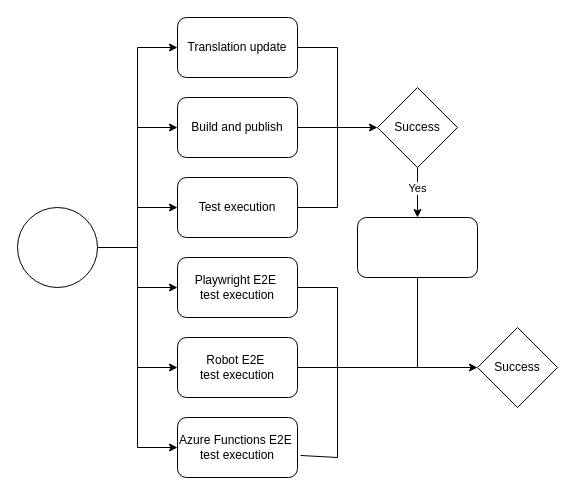
Image size: 575x495. Some labels were removed from this diagram. The shapes that lost their labels are listed below. From the top down, each one's centre as x and y in pixels, then its label:
At [57,247]: "Start".
At [417,247]: "Deployment to Dev environment".
